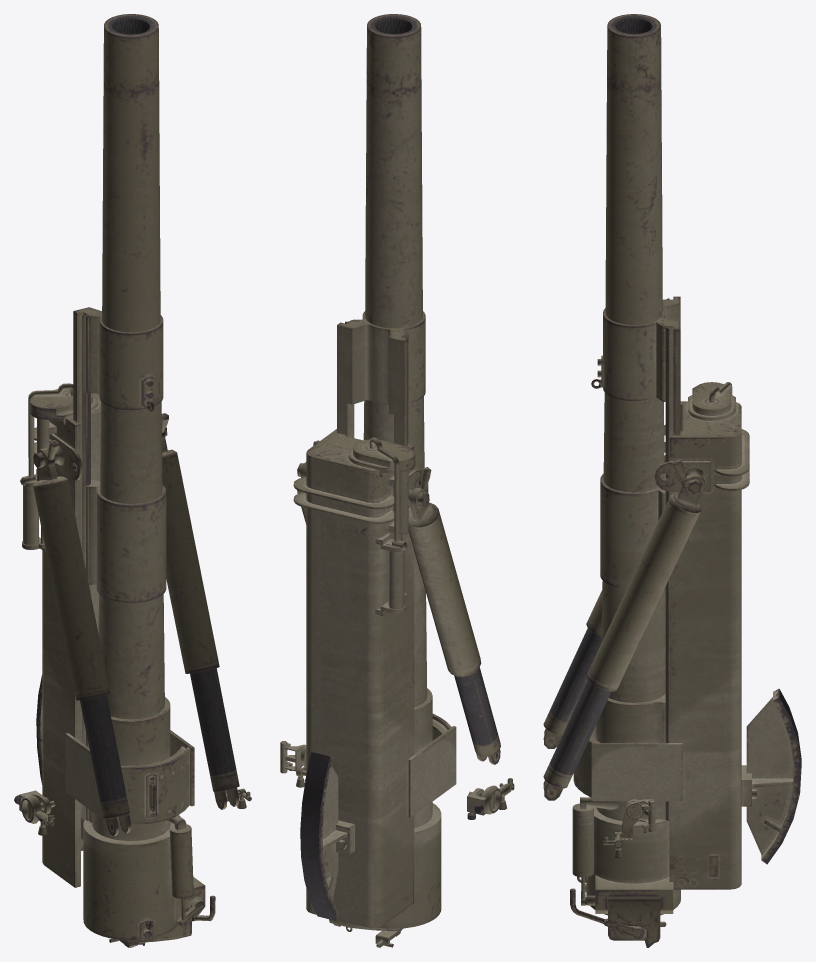
File: Gun_02.glb
3 views of the same model, side by side, from view 1: azimuth 30°, elevation 25°; view 2: azimuth 150°, elevation 25°; view 3: azimuth 270°, elevation 25° (orthographic). The views are drawn at different scales.
Parts seen in each view (by area): view 1: set_0_group_0; view 2: set_0_group_0; view 3: set_0_group_0.
Part boxes in pixels (x1,y1,x2,y2): set_0_group_0: (14, 14, 251, 947); set_0_group_0: (280, 14, 514, 947); set_0_group_0: (543, 14, 801, 947).
Size of the model in its own units: 1.33 by 5.51 by 1.43.
Materials: 1 (1 with a texture image).
